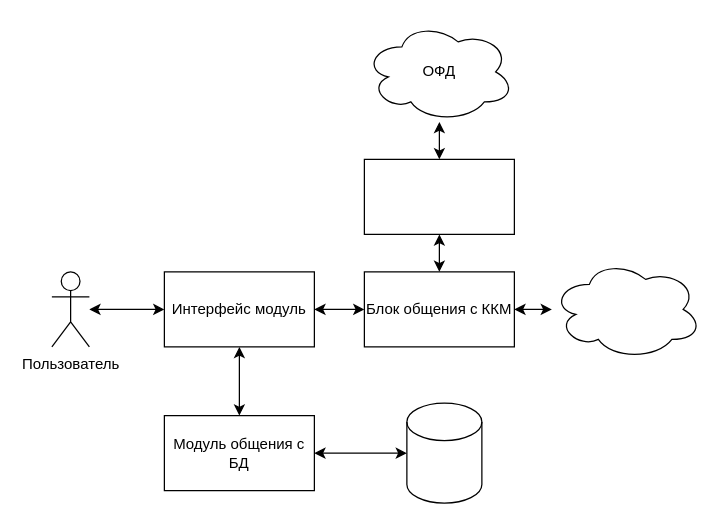
The diagram is 724 pixels wide and 525 high, and some of its shapes have lost their labels. The shapes that lost their labels are listed below. From the top down, each one's centre as x and y in pixels, then its label:
At point 438,196: "Блок общения с ОФД".
At point 626,308: "ККМ".
At point 444,452: "БД".
